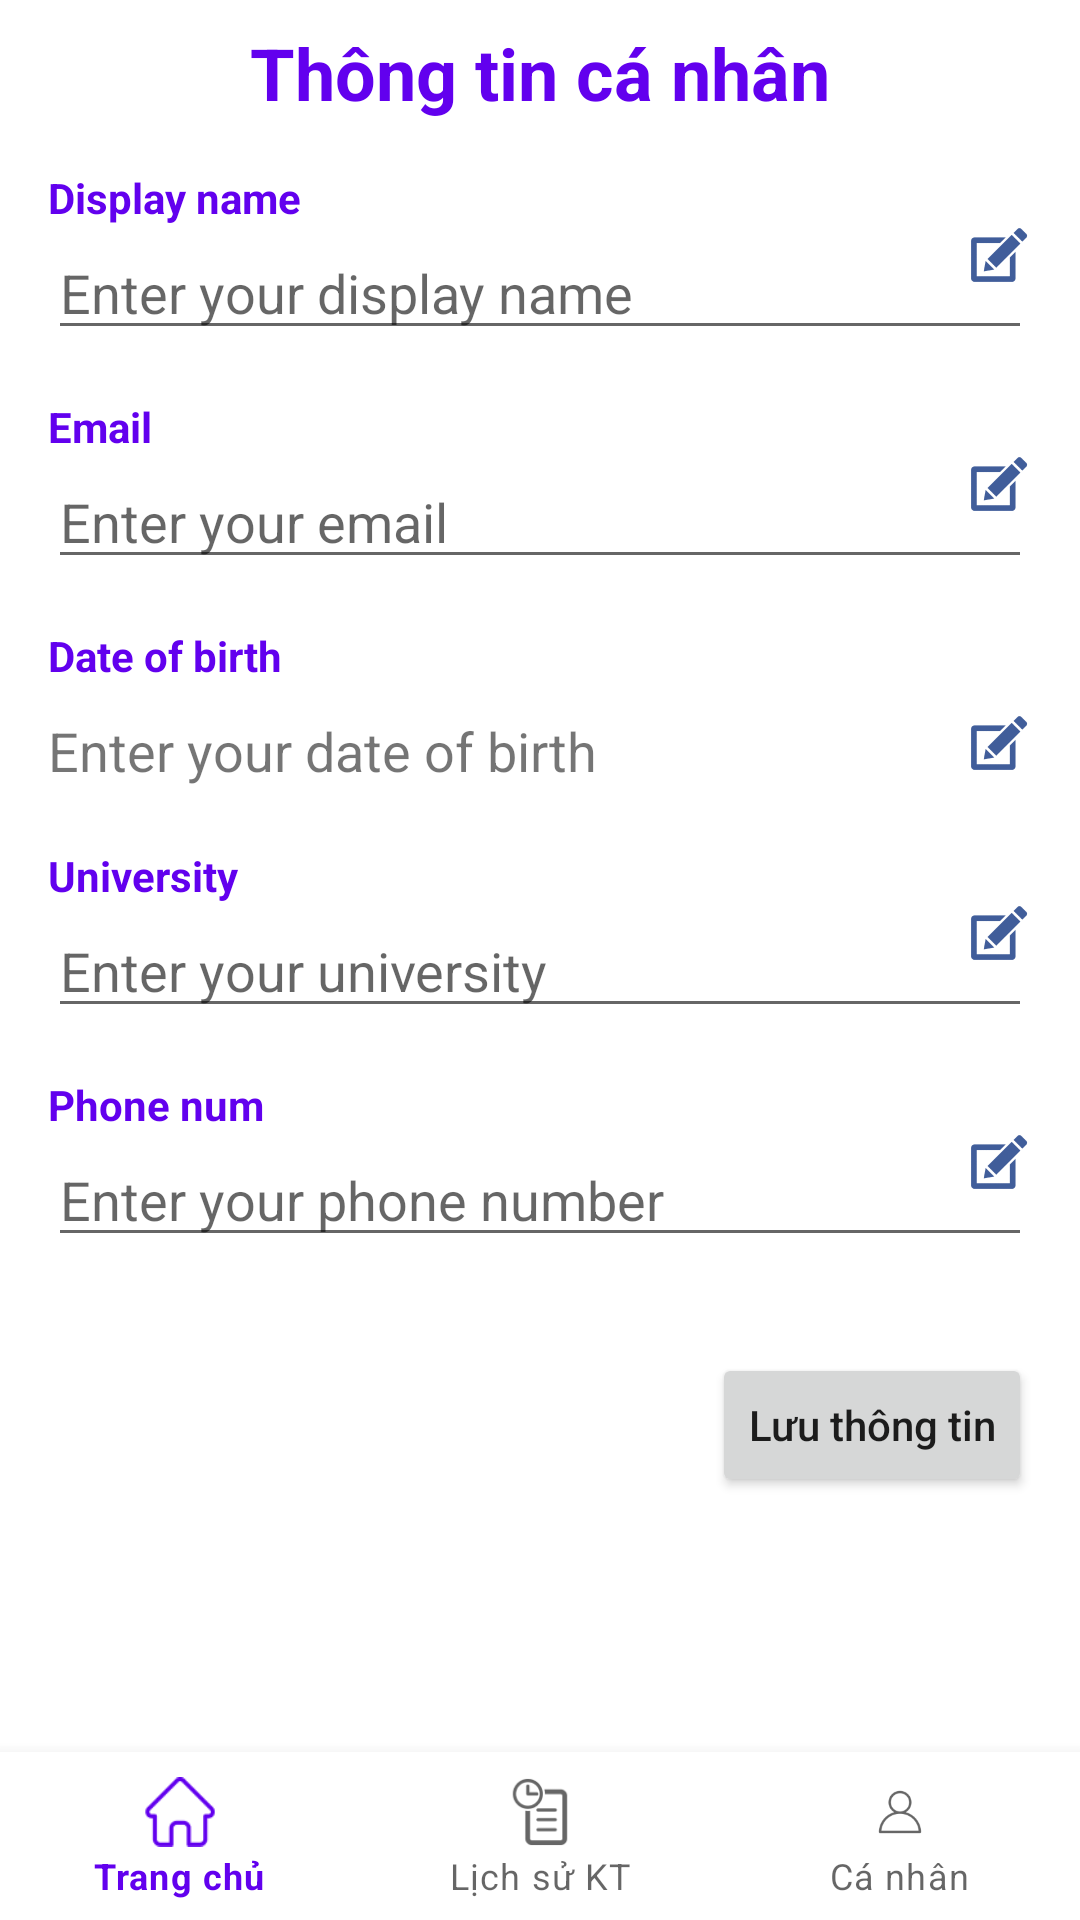

Point at icon controls on the screen. Image size 1080*1920, points as [x,y].
edit: [999,255], [999,484], [999,743], [999,933], [999,1162]
